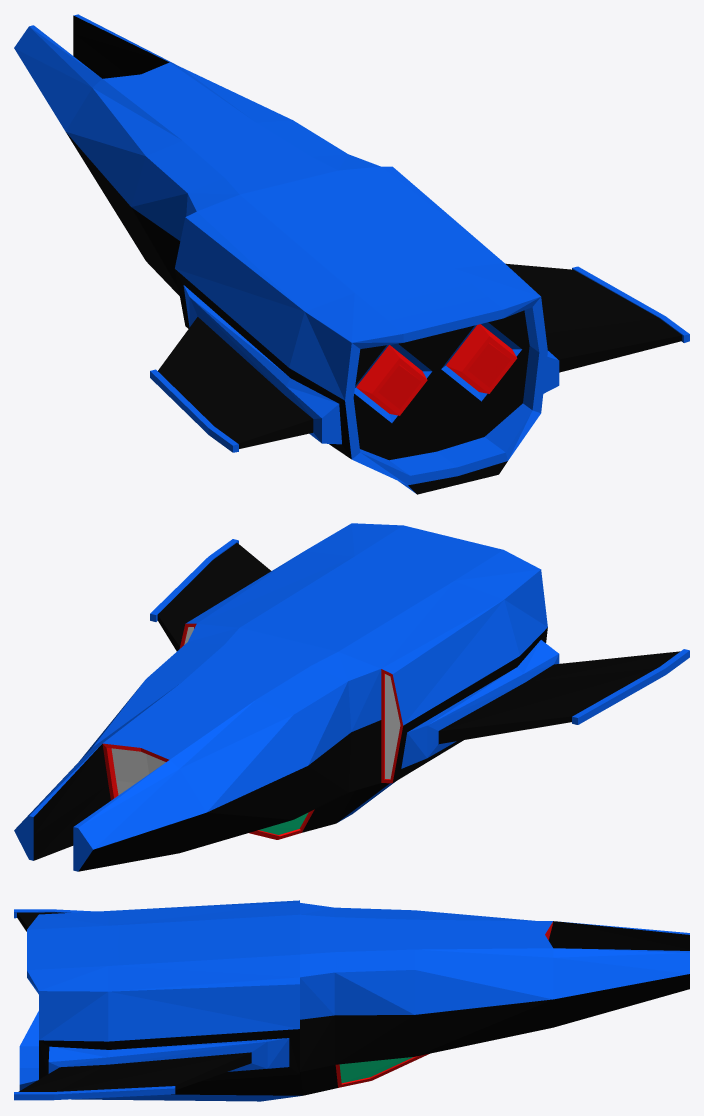
File: Player.fbx
3 renders of one model, top to bottom at view 1: azimuth 30°, elevation 25°; view 2: azimuth 150°, elevation 25°; view 3: azimuth 270°, elevation 25°, orthographic. The views are drawn at different scales.
Parts seen in each view (by area): view 1: Box001; view 2: Box001; view 3: Box001.
Part boxes in pixels (x1=…): Box001: x1=14, y1=14, x2=689, y2=494; Box001: x1=14, y1=523, x2=689, y2=871; Box001: x1=14, y1=900, x2=689, y2=1101.
Size of the model in its own units: 86.48 by 32.85 by 134.
